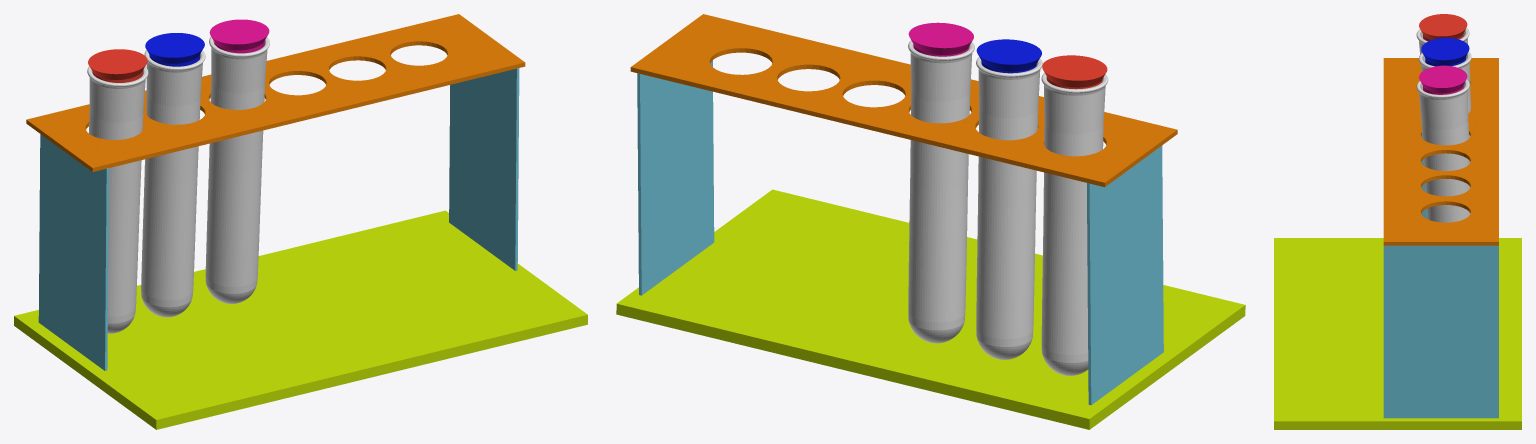
The model's file is testtubeholder20001.glb.
3 views of the same model, side by side, from view 1: azimuth 30°, elevation 25°; view 2: azimuth 150°, elevation 25°; view 3: azimuth 270°, elevation 25° (orthographic). The views are drawn at different scales.
Visible parts, largest first — view 1: Cube.003, Cube.004, Cube.001, Cube.002, Sphere.003, Sphere.001, Sphere.013, Sphere.016_Sphere.003, Sphere.016_Sphere.001, Sphere.016_Sphere.002; view 2: Cube.003, Cube.004, Cube.001, Sphere.001, Sphere.003, Cube.002, Sphere.013, Sphere.016_Sphere.002, Sphere.016_Sphere.003, Sphere.016_Sphere.001; view 3: Cube.003, Cube.002, Cube.004, Sphere.003, Sphere.016_Sphere.003, Sphere.016_Sphere.002, Sphere.016_Sphere.001, Sphere.001.
Boxes of the visible parts, x1,y1,x2,y2 form: Cube.003: (14, 210, 587, 429); Cube.004: (26, 14, 525, 171); Cube.001: (38, 134, 108, 370); Cube.002: (449, 68, 519, 270); Sphere.003: (205, 37, 269, 303); Sphere.001: (141, 50, 205, 317); Sphere.013: (87, 66, 148, 333); Sphere.016_Sphere.003: (209, 19, 269, 53); Sphere.016_Sphere.001: (88, 49, 147, 82); Sphere.016_Sphere.002: (145, 33, 204, 66); Cube.003: (616, 189, 1245, 429); Cube.004: (630, 14, 1177, 187); Cube.001: (1087, 145, 1163, 405); Sphere.001: (976, 57, 1042, 359); Sphere.003: (908, 40, 974, 343); Cube.002: (637, 60, 714, 295); Sphere.013: (1041, 73, 1108, 375); Sphere.016_Sphere.002: (976, 39, 1041, 73); Sphere.016_Sphere.003: (908, 22, 973, 56); Sphere.016_Sphere.001: (1042, 55, 1107, 89); Cube.003: (1274, 238, 1521, 429); Cube.002: (1383, 245, 1498, 418); Cube.004: (1383, 58, 1498, 245); Sphere.003: (1416, 79, 1470, 222); Sphere.016_Sphere.003: (1419, 65, 1467, 94); Sphere.016_Sphere.002: (1421, 37, 1469, 66); Sphere.016_Sphere.001: (1419, 14, 1467, 41); Sphere.001: (1418, 51, 1471, 137).
Size of the model in its own units: 0.6933 by 0.4357 by 0.395.
